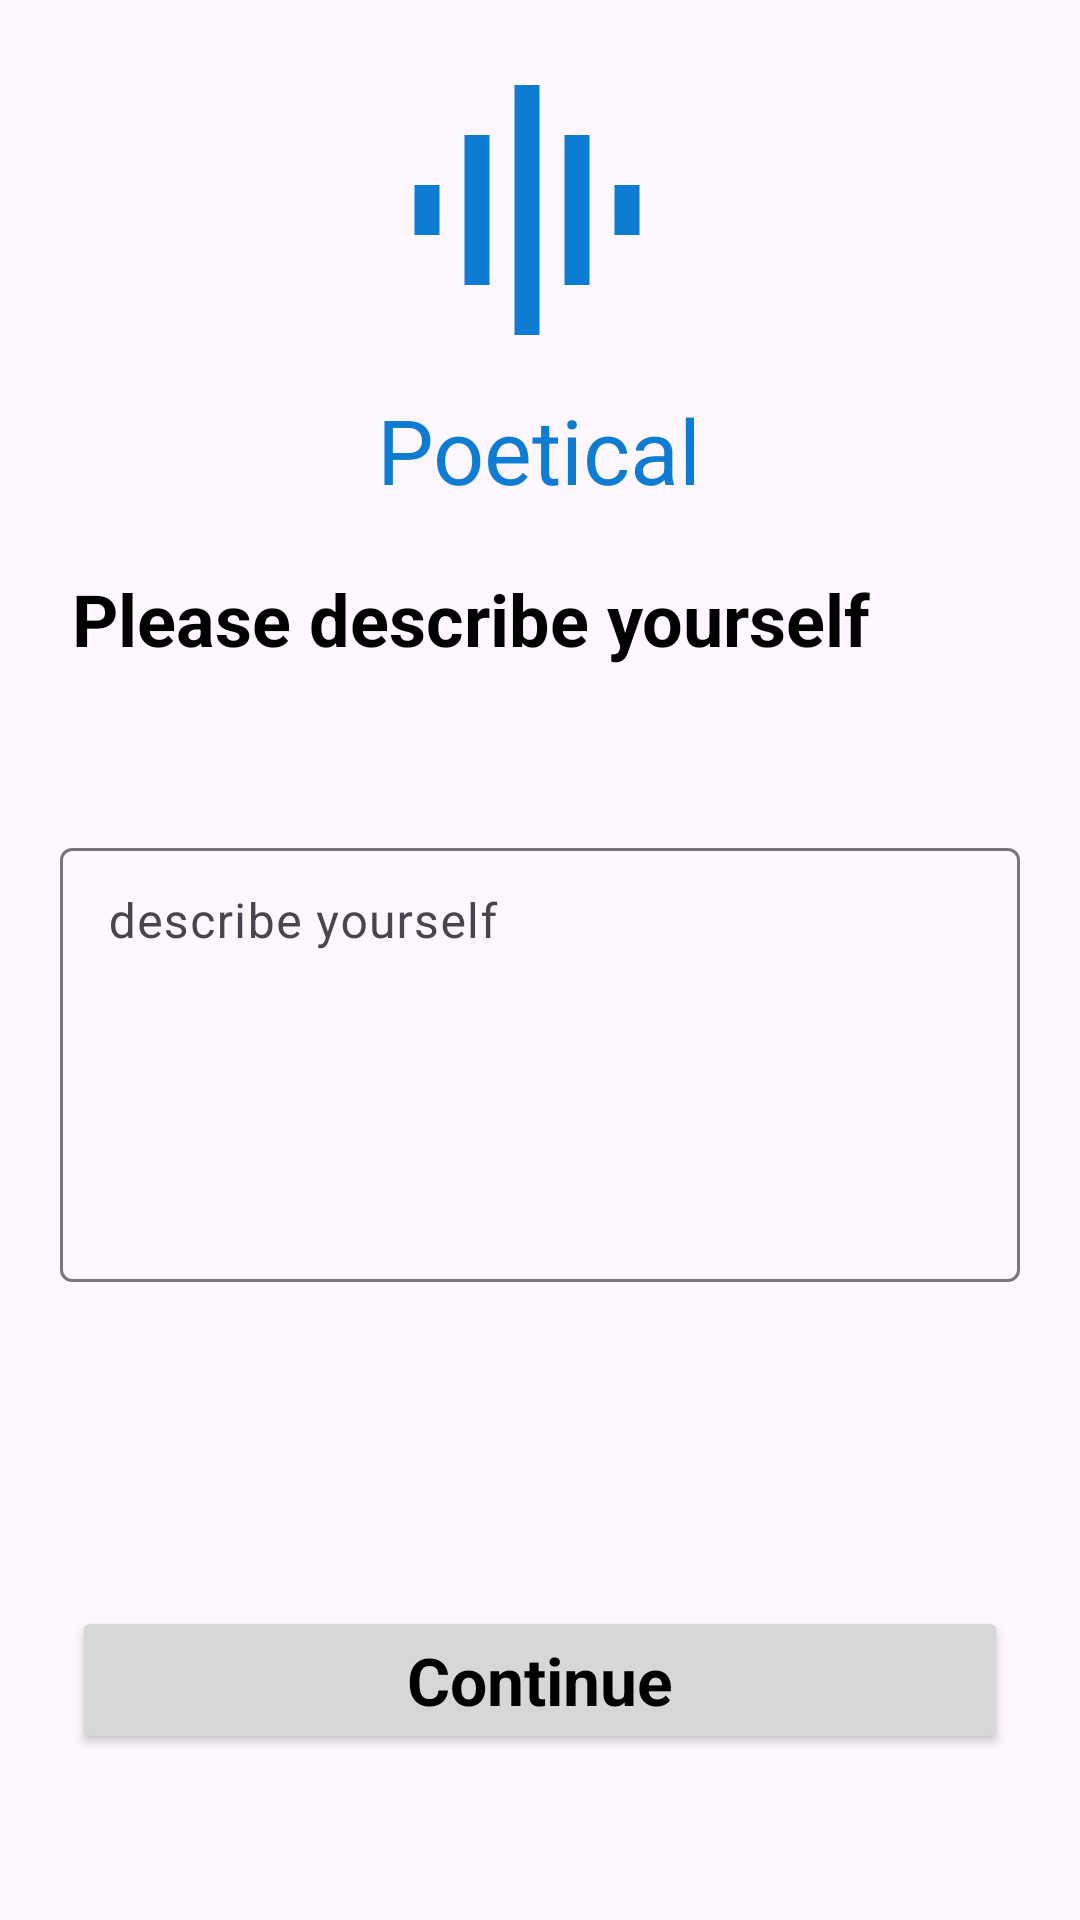

Where to tap for icons on this 1080px×1920px app screen, as [x,y]:
wave: [527,210]
